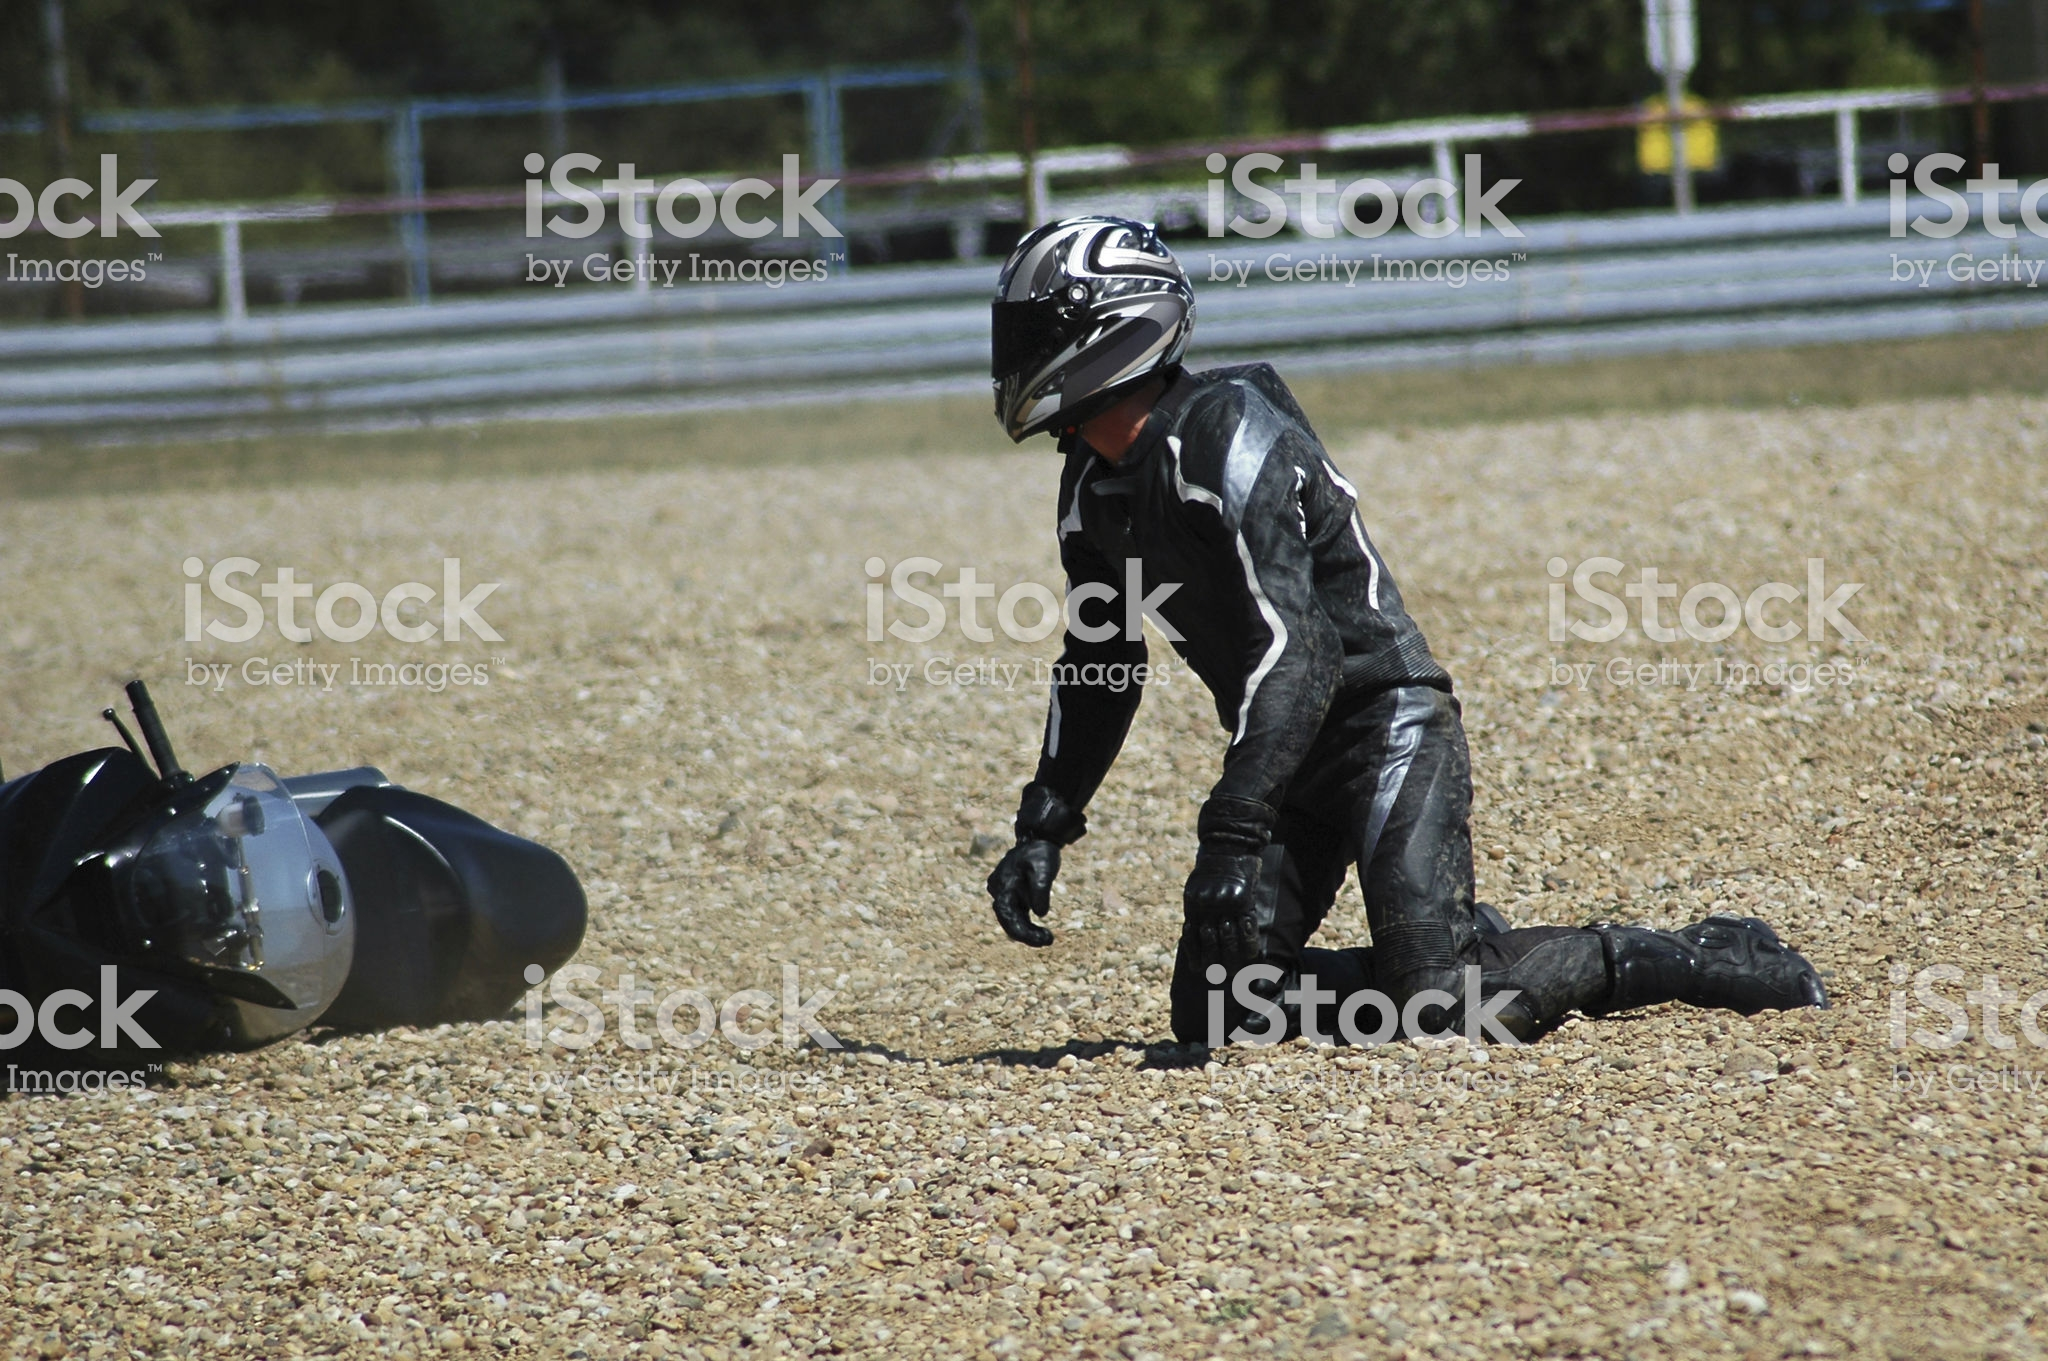helmet: (985, 211, 1199, 431)
